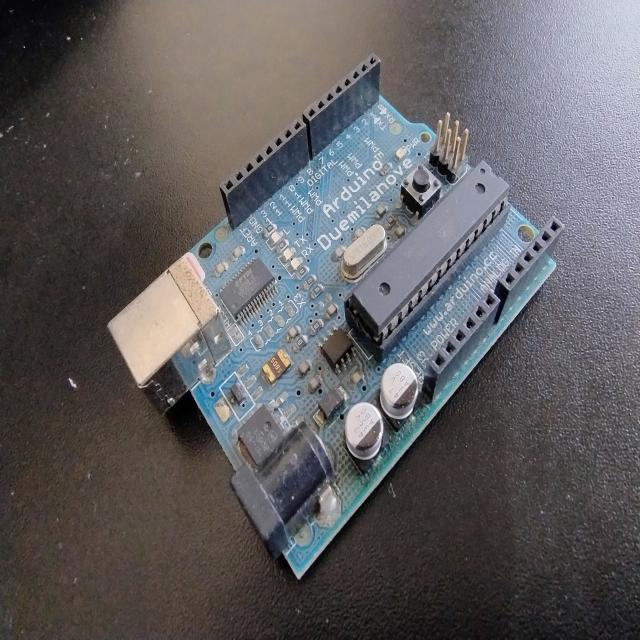arduino: (94, 51, 579, 588)
